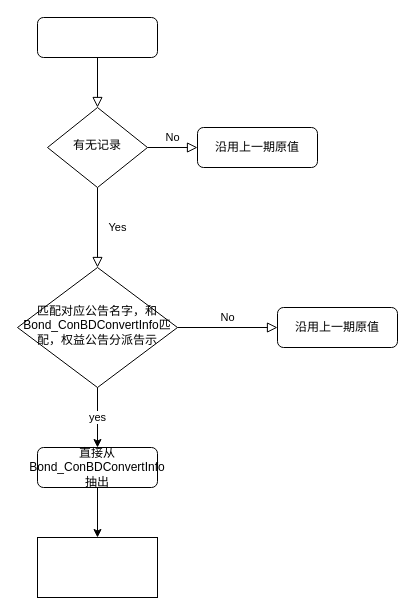
The diagram is 415 pixels wide and 615 high, and some of its shapes have lost their labels. Here are the shapes that lost their labels. From the top down, the box of each, then its label:
(36, 16, 158, 58): 读取记录
(36, 536, 158, 598): 根据时间向前推找到最近的一期LC_ShareStru.Ashares
